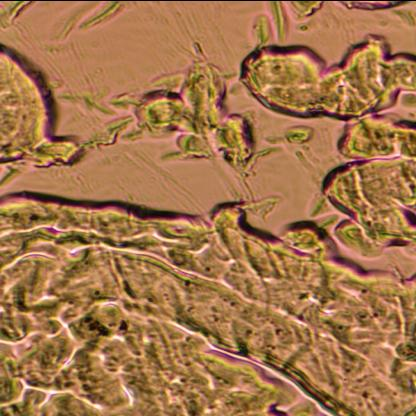Normal: (4, 176, 416, 416)
